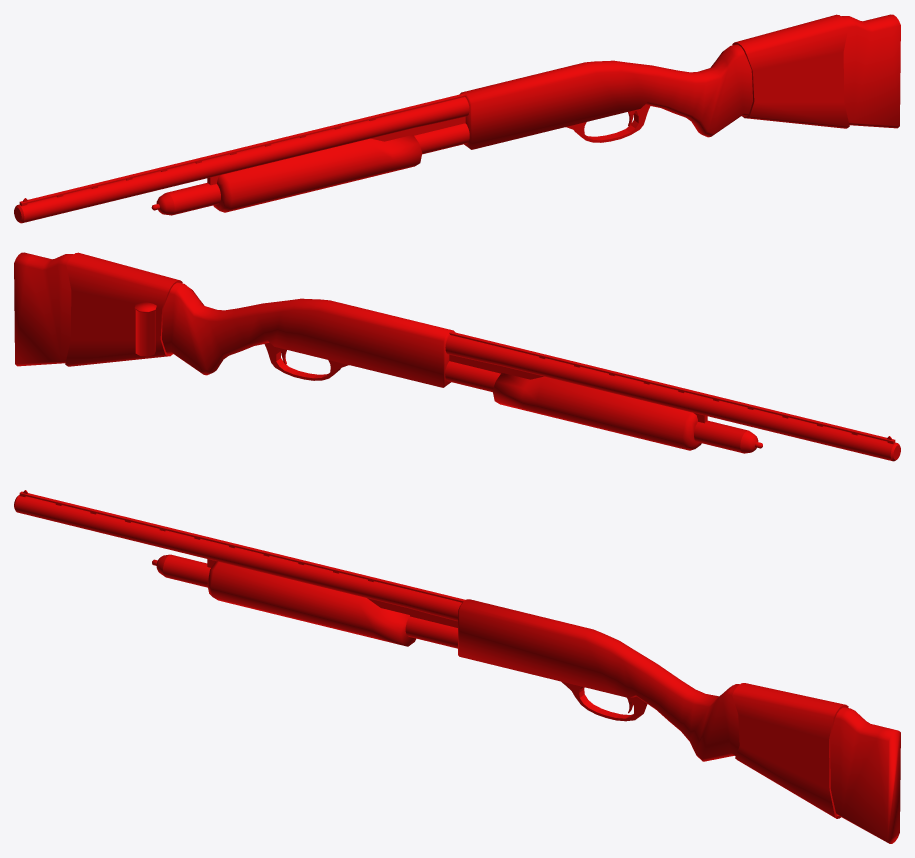
The model's file is shotgun_eddy_1.fbx.
3 views of the same model, one above another, from view 1: azimuth 30°, elevation 25°; view 2: azimuth 150°, elevation 25°; view 3: azimuth 330°, elevation 25° (orthographic).
Parts seen in each view (by area): view 1: Shotgun; view 2: Shotgun; view 3: Shotgun.
Boxes of the visible parts, <box> form: Shotgun: <box>14,14,900,223</box>; Shotgun: <box>14,252,900,461</box>; Shotgun: <box>14,490,900,843</box>.
Bounding box in the file's own units: 41.26 × 6.32 × 2.37.
